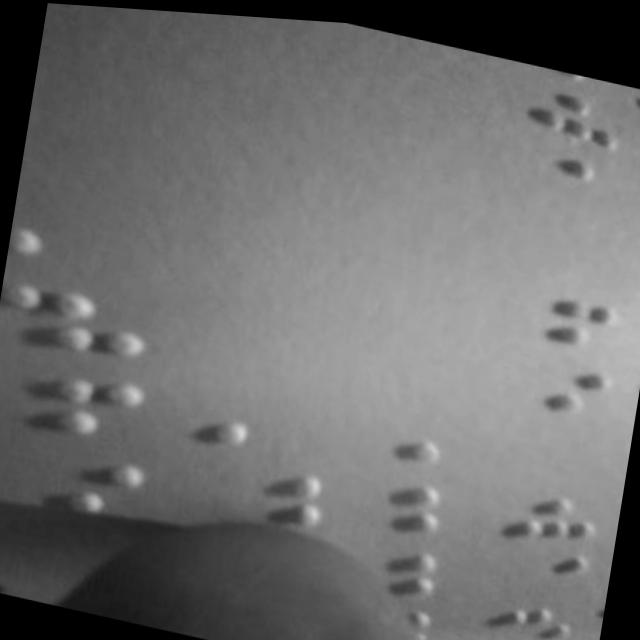braiile: (0, 269, 156, 374), (0, 350, 154, 454), (0, 433, 148, 540), (484, 338, 617, 422), (509, 137, 637, 224), (496, 268, 624, 351), (514, 73, 632, 151), (490, 474, 602, 554), (519, 55, 608, 89)
